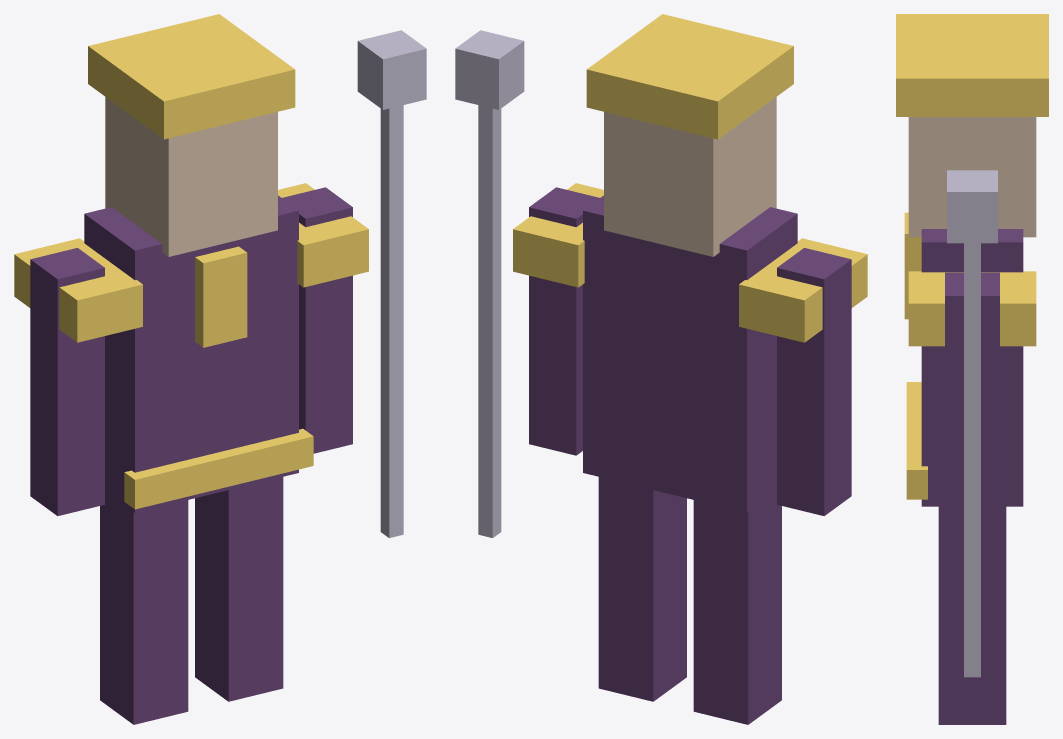
Rendered from 09_yara_chromabell_scout_under_freight.glb.
3 views of the same model, side by side, from view 1: azimuth 30°, elevation 25°; view 2: azimuth 150°, elevation 25°; view 3: azimuth 270°, elevation 25° (orthographic).
Visible parts, largest first — view 1: Yara Chromabell, Scout under Freight; view 2: Yara Chromabell, Scout under Freight; view 3: Yara Chromabell, Scout under Freight.
Part boxes in pixels (x1,y1,x2,y2): Yara Chromabell, Scout under Freight: [14, 14, 426, 724]; Yara Chromabell, Scout under Freight: [455, 14, 867, 724]; Yara Chromabell, Scout under Freight: [896, 14, 1048, 724].
Size of the model in its own units: 0.9466 by 1.56 by 0.3358.
